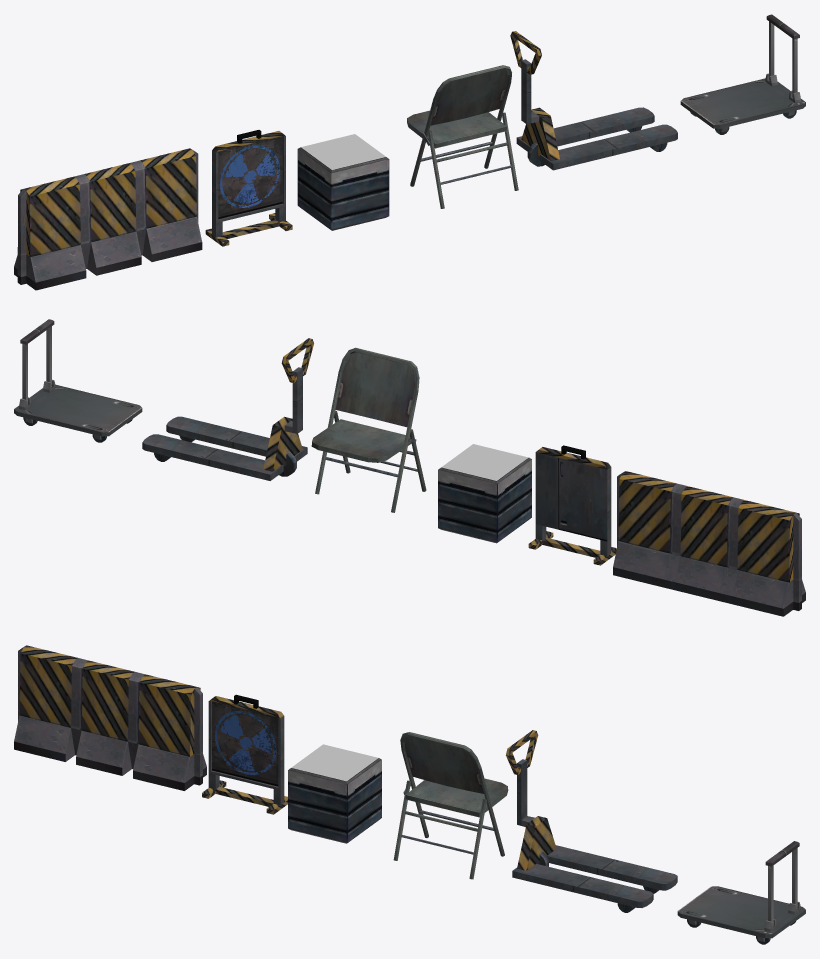
Rendered from Stuff.fbx.
3 renders of one model, top to bottom at view 1: azimuth 30°, elevation 25°; view 2: azimuth 150°, elevation 25°; view 3: azimuth 330°, elevation 25°, orthographic. The views are drawn at different scales.
Parts seen in each view (by area): view 1: Cube.031, Cube.089, Cube.070, Cylinder.017, Cube.033, Cube.013; view 2: Cube.031, Cube.070, Cube.089, Cylinder.017, Cube.033, Cube.013; view 3: Cube.031, Cylinder.017, Cube.070, Cube.089, Cube.033, Cube.013.
Part boxes in pixels (box(x1,y1,x2,y2)): Cube.031: box(14, 148, 202, 290); Cube.089: box(297, 134, 389, 230); Cube.070: box(407, 65, 518, 208); Cylinder.017: box(510, 31, 677, 170); Cube.033: box(205, 130, 292, 246); Cube.013: box(680, 14, 805, 134); Cube.031: box(613, 471, 805, 616); Cube.070: box(311, 347, 426, 512); Cube.089: box(438, 444, 531, 543); Cylinder.017: box(142, 338, 313, 480); Cube.033: box(528, 445, 616, 565); Cube.013: box(14, 319, 142, 442); Cube.031: box(14, 645, 206, 790); Cylinder.017: box(506, 730, 677, 912); Cube.070: box(393, 732, 508, 879); Cube.089: box(288, 744, 381, 843); Cube.033: box(202, 694, 287, 814); Cube.013: box(677, 841, 805, 944).
Size of the model in its own units: 2180 by 353 by 215.
